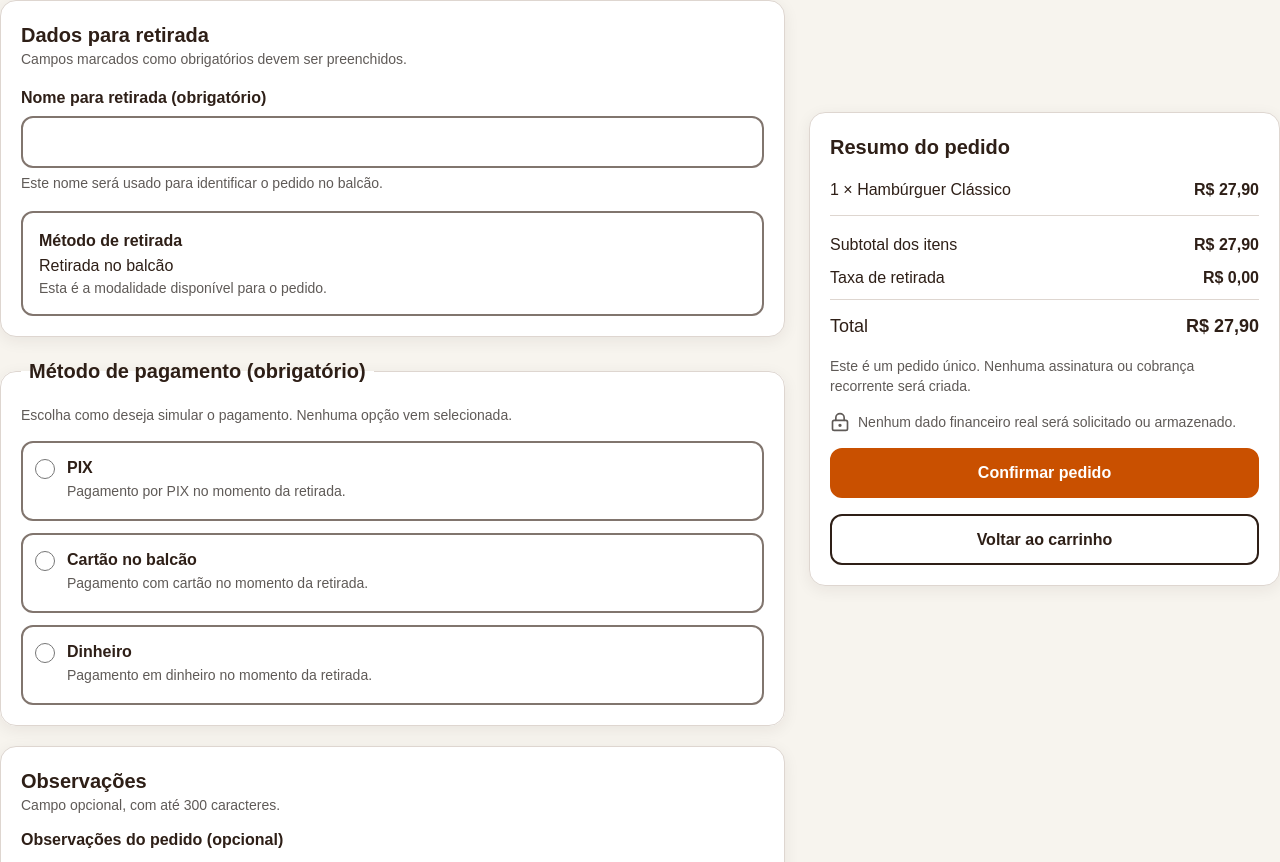
Test: CheckoutForm › mostra erros textuais nos campos obrigatórios
Click the button "Confirmar pedido".
click(1044, 473)  # box 830,448 -> 1259,498
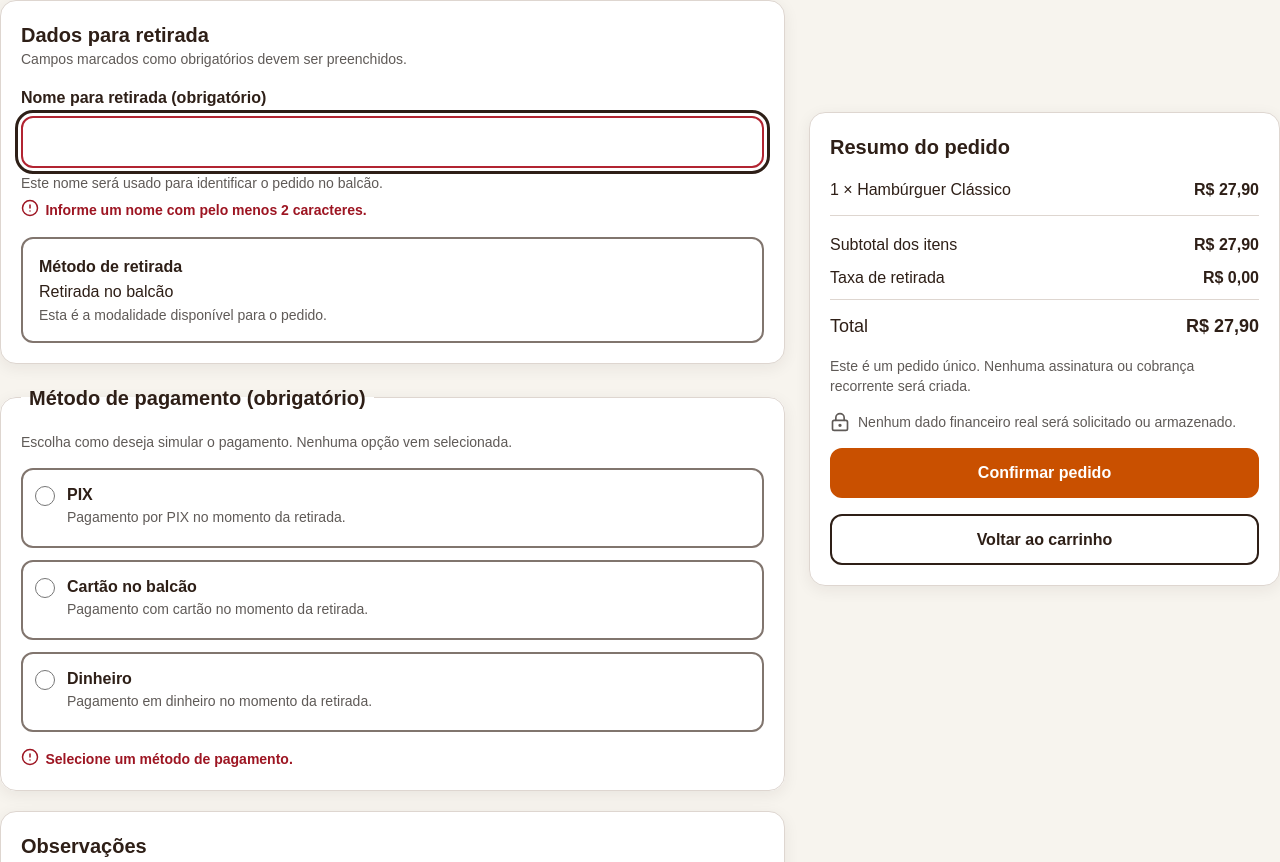
Check: the text "Informe um nome com pelo menos 2 caracteres." is shown, box 21,198 -> 367,218
Check: the text "Selecione um método de pagamento." is shown, box 21,748 -> 293,766
